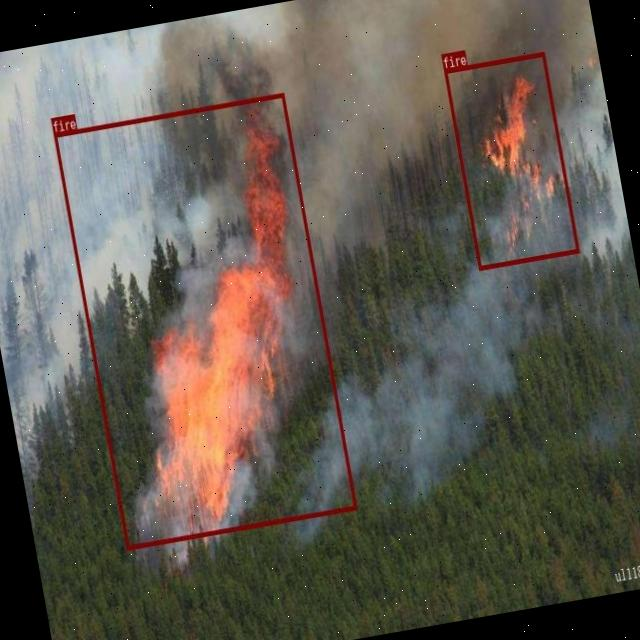fire: (52, 92, 356, 549), (443, 50, 578, 268)
